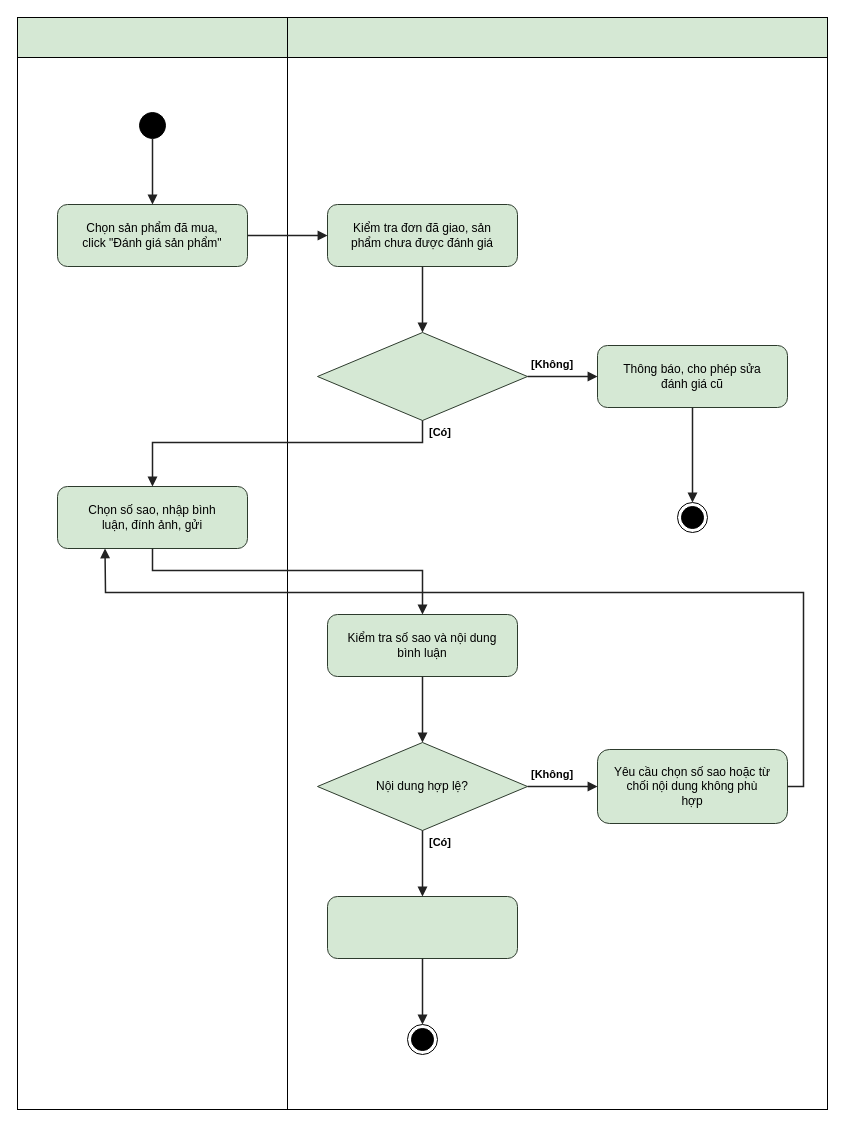
Some shapes in this 845 by 1127 pixel diagram are drawn without their labels. The shapes that lost their labels are listed below. From the top down, each one's centre as x and y in pixels, then its label:
point (152, 37): NGƯỜI DÙNG
point (557, 37): HỆ THỐNG
point (422, 376): Đủ điều kiện đánh giá?
point (422, 927): Lưu đánh giá "Chờ duyệt", thông báo cảm ơn
